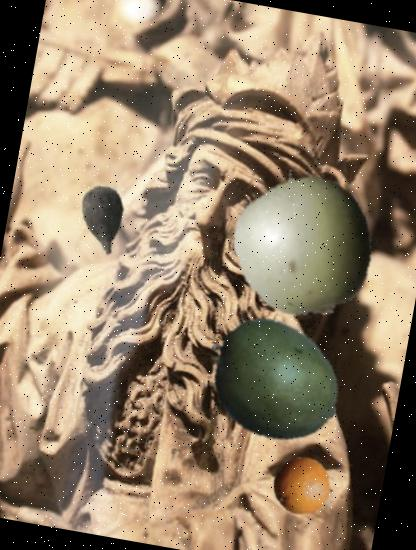Apple: (216, 157, 389, 330)
Beetroot: (61, 176, 147, 262)
Mango: (192, 300, 353, 462)
Orange: (268, 452, 336, 520)
